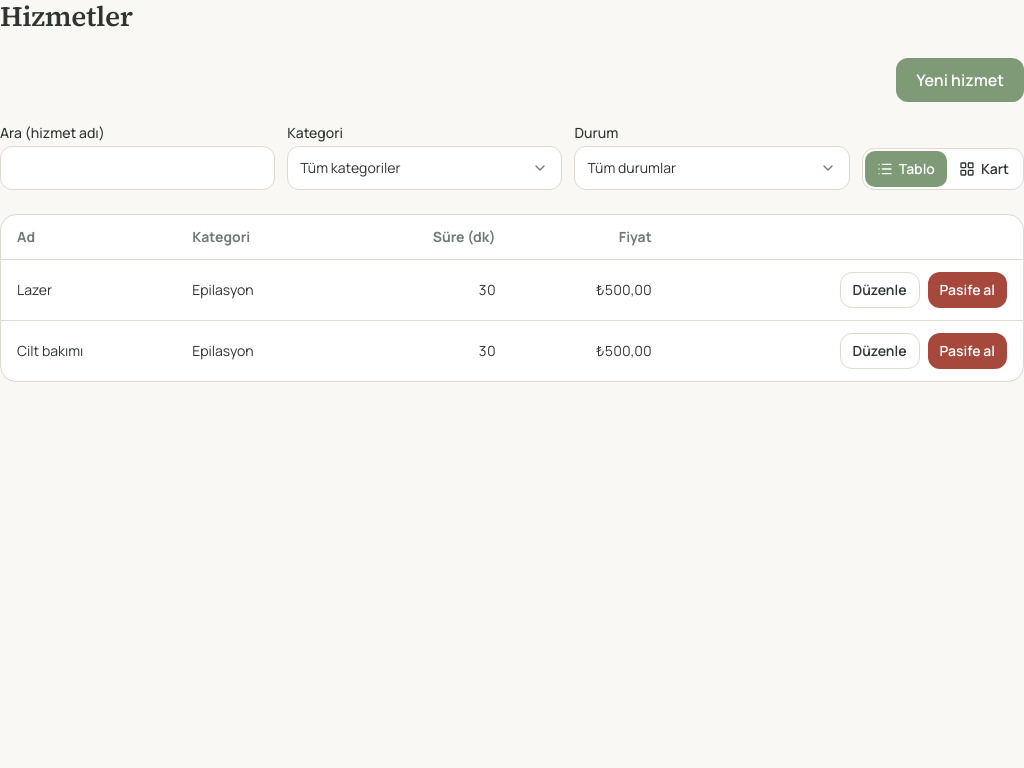
Scenario: katalog › yeni hizmette kod addan türetilir, çakışırsa sayı alır ve düzenlenemez
Expected: the text "Lazer" is shown, [1,260,176,320]
Click the button "Yeni hizmet" at (960, 80), box [896,58,1023,102]
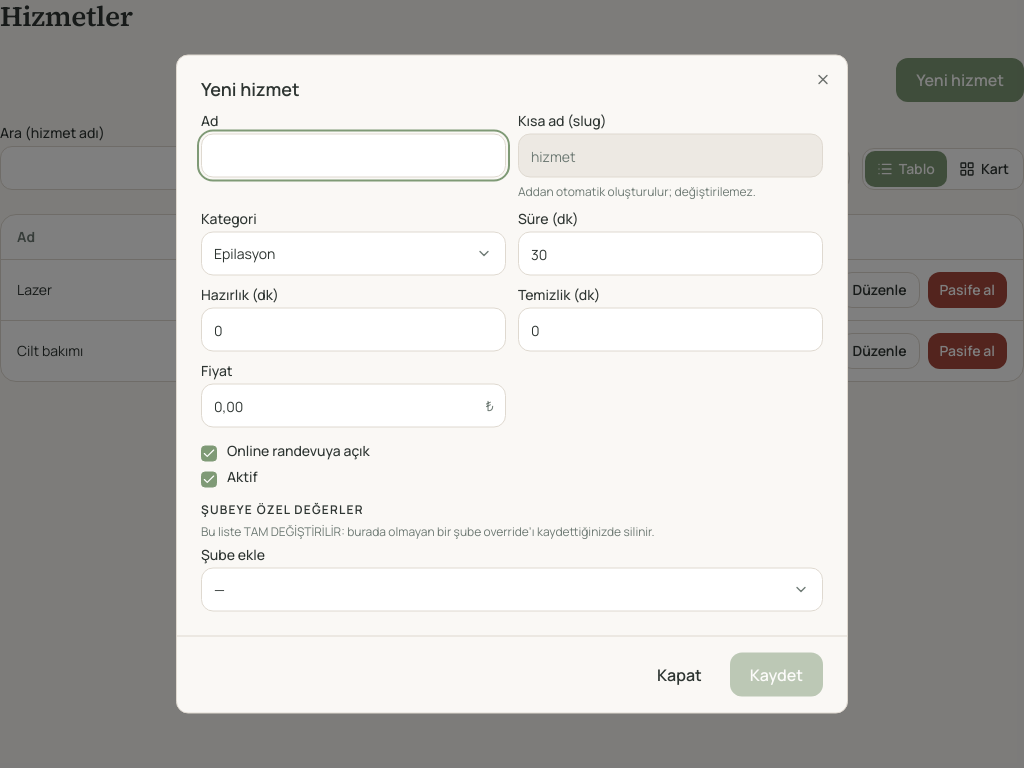
Type "Diş Beyazlatma" into the field labelled "Ad" at (354, 156), box [201,134,506,178]
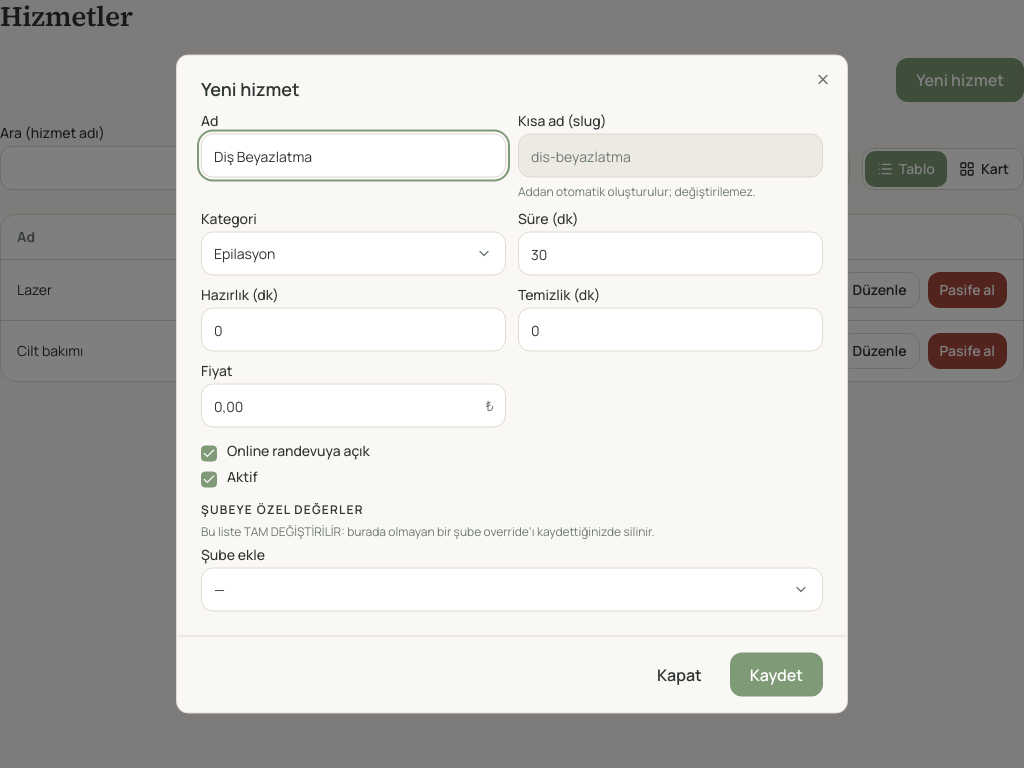
Now the field labelled "Kısa ad (slug)" holds "dis-beyazlatma", box [518,134,823,178]
// `lazer` kodu zaten var: aynı ad sayı ekleyerek ayrışır.
Replace the text in the field labelled "Ad" with "Lazer" at (354, 156), box [201,134,506,178]
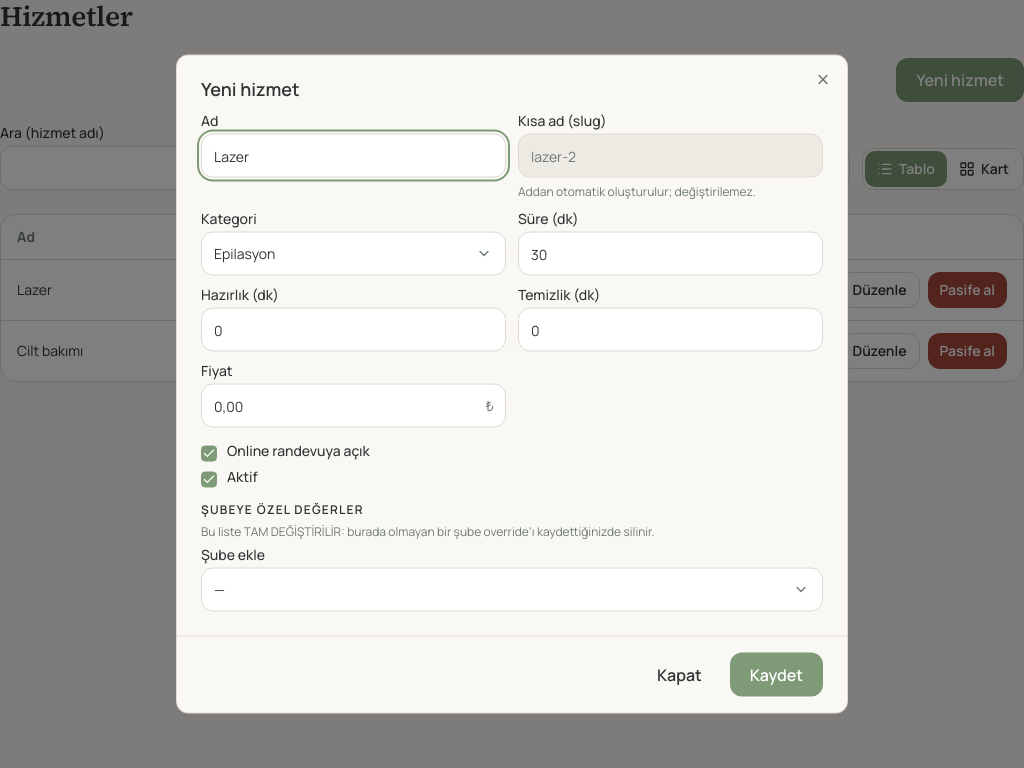
Now the field labelled "Kısa ad (slug)" holds "lazer-2", box [518,134,823,178]
